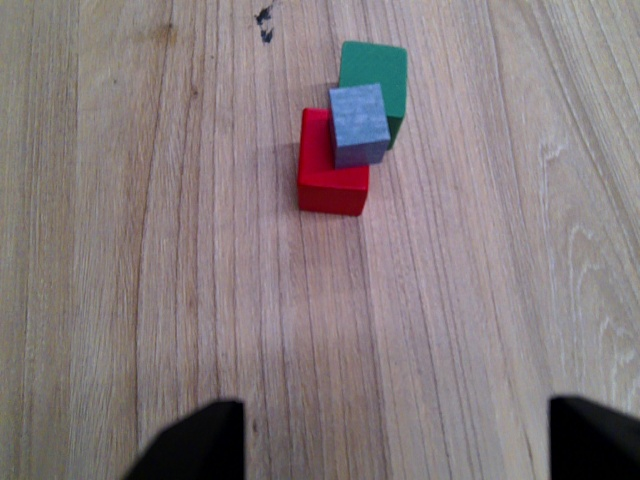stone: (322, 76, 395, 174)
